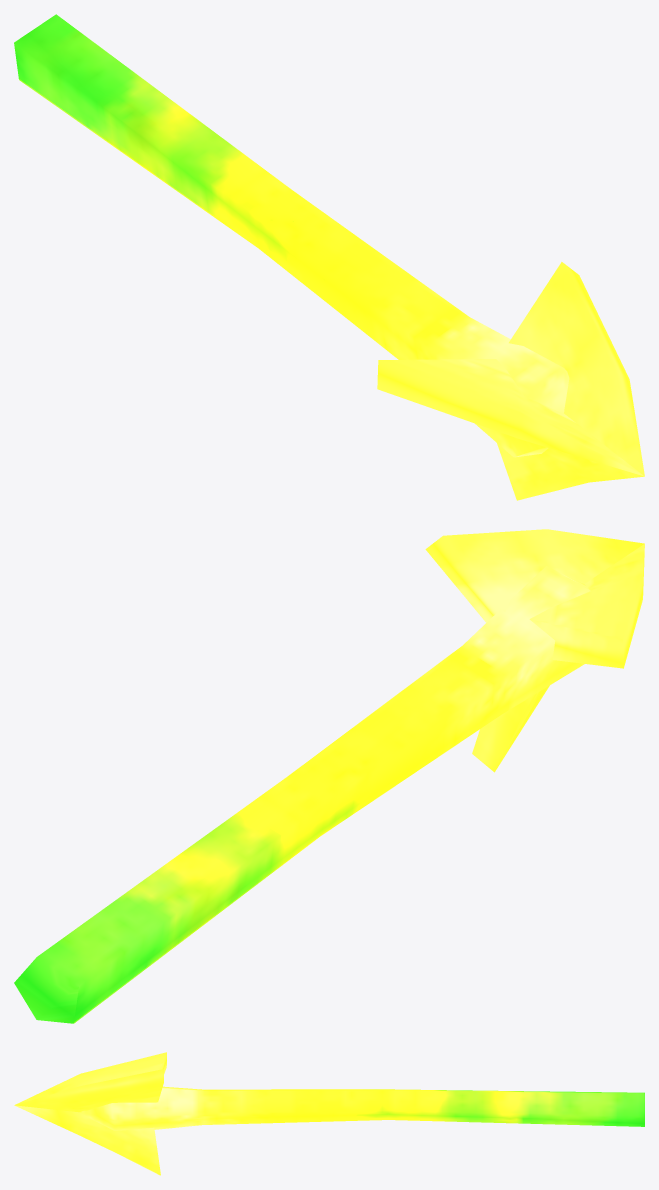
Rendered from MobileAttack.fbx.
The picture shows the model from 3 angles, top to bottom: view 1: azimuth 30°, elevation 25°; view 2: azimuth 150°, elevation 25°; view 3: azimuth 270°, elevation 25°; orthographic projection. The views are drawn at different scales.
Parts seen in each view (by area): view 1: MobileAttackSpell; view 2: MobileAttackSpell; view 3: MobileAttackSpell.
Boxes of the visible parts, left/top/right/bottom form: MobileAttackSpell: left=14, top=14, right=644, bottom=500; MobileAttackSpell: left=14, top=529, right=644, bottom=1023; MobileAttackSpell: left=14, top=1052, right=644, bottom=1175.
Size of the model in its own units: 40.19 by 43.4 by 208.
1 material, 1 textured.
